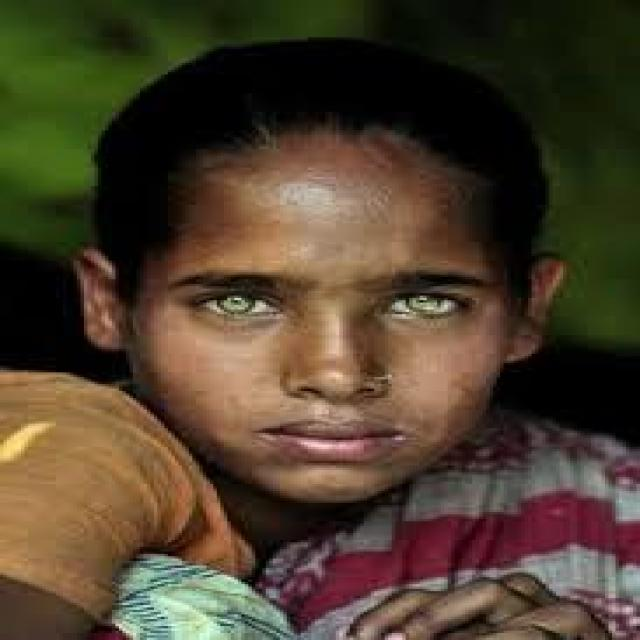person: (14, 32, 612, 638)
